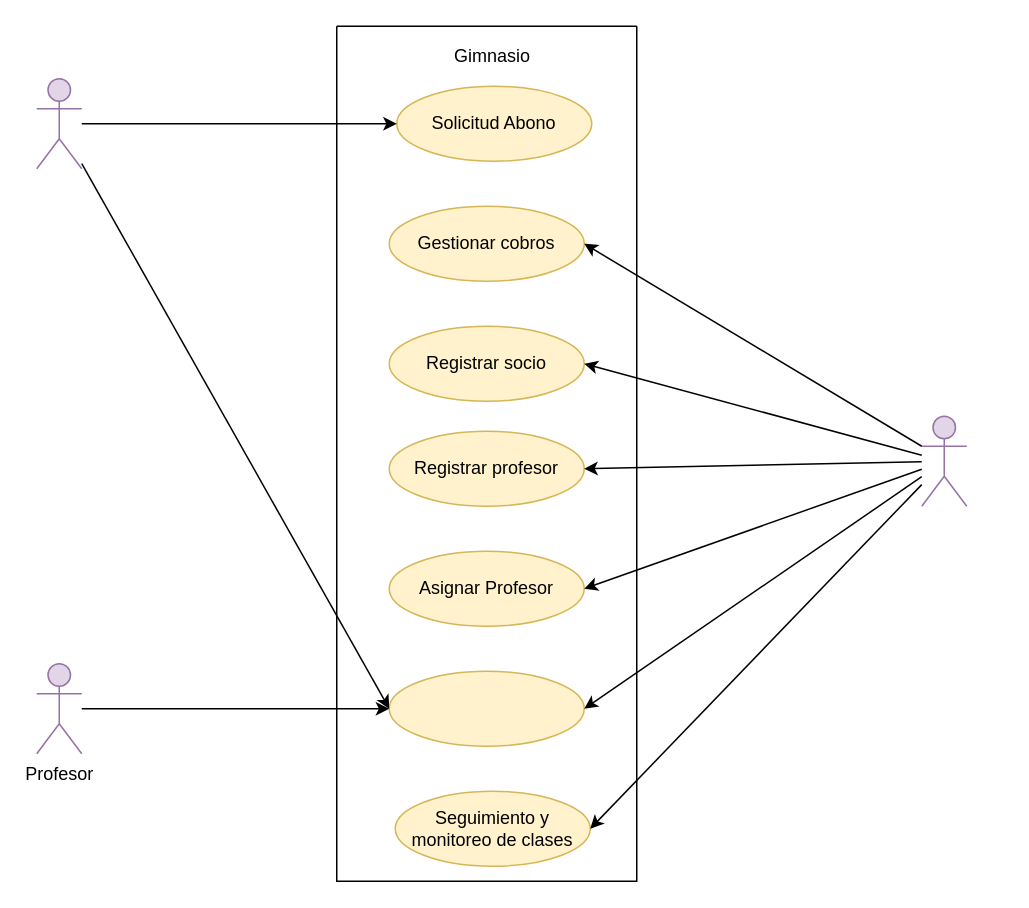
Image size: 1029x908. Some labels were removed from this diagram. The shapes that lost their labels are listed below. From the top down, each one's centre as x and y in pixels, then its label:
At (58,123): "Socio".
At (943,460): "Administracion".
At (486,708): "Planificación Clases".
